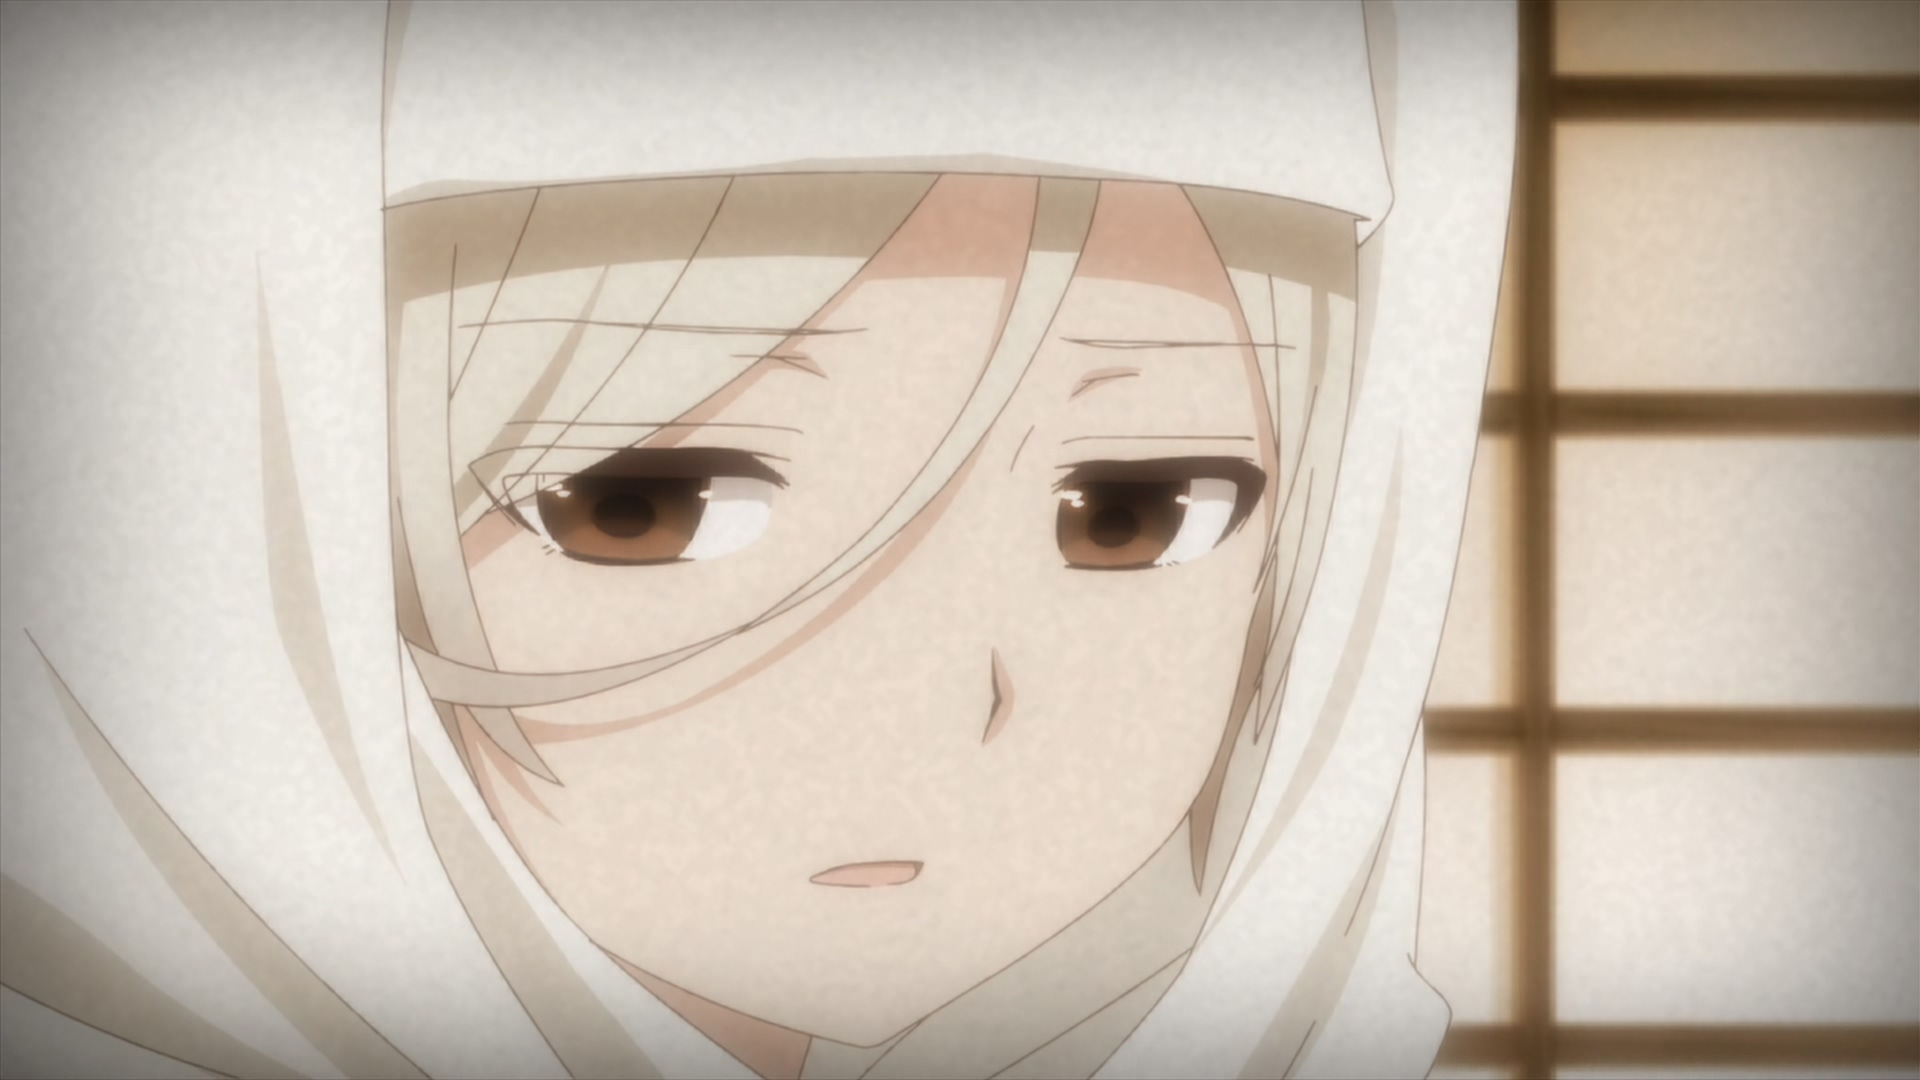八百比丘尼: (1, 1, 1520, 1080)
